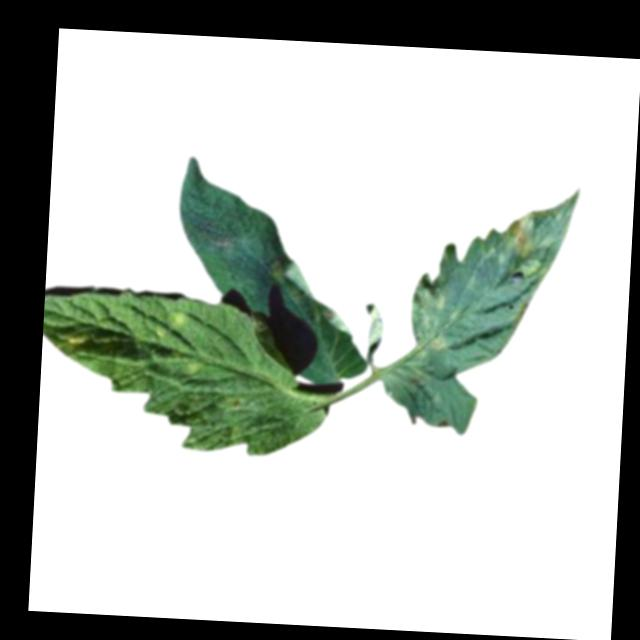Leaf_Mold: (269, 259, 355, 334), (407, 276, 456, 354), (506, 208, 550, 275), (150, 307, 191, 341), (65, 326, 94, 355)
